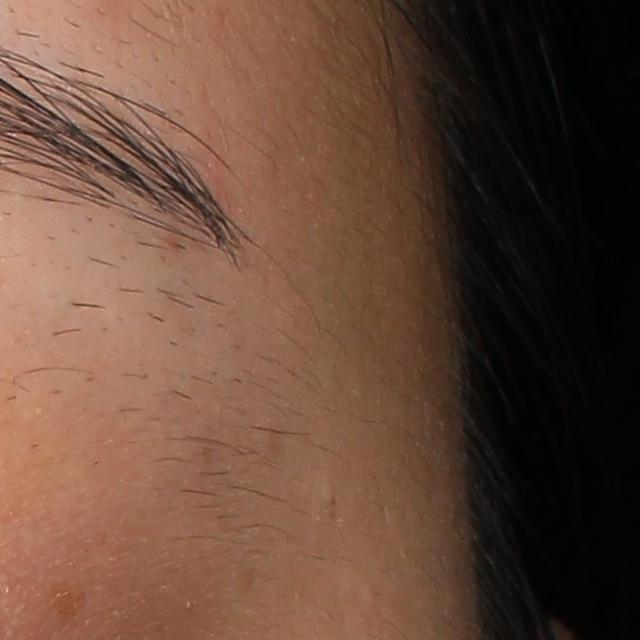melasma: (48, 569, 88, 616)
